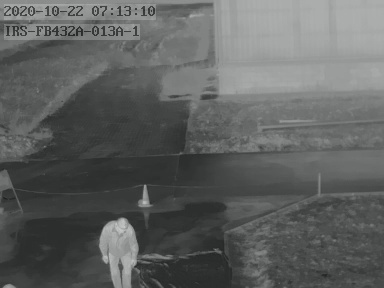person: (97, 216, 139, 286)
